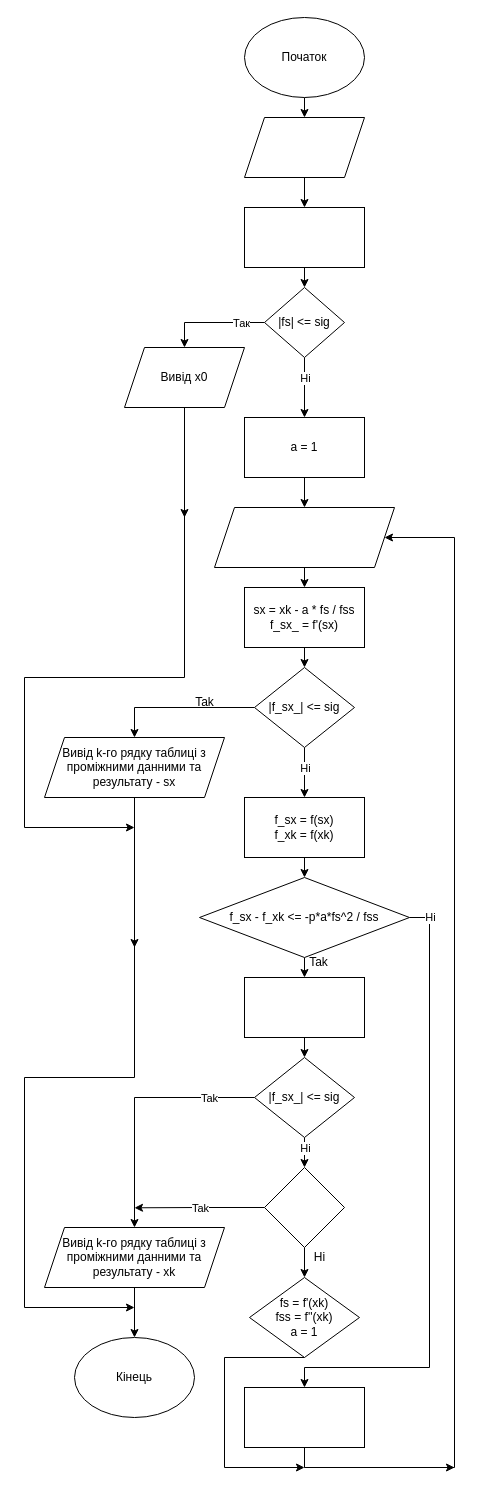
This 480x1493 diagram has some shape labels left out. The shapes that lost their labels are listed below. From the top down, each one's centre as x and y in pixels, then its label:
At [304,147]: "Ввод x0, p, sig".
At [304,237]: "k = 0 xk = x0 fs = f'(xk) fss = f''(xk)".
At [304,537]: "Вивід k-го рядку таблиці з проміжними данними".
At [304,1007]: "k = k + 1 xk = sx".
At [304,1207]: "a <= sig".
At [304,1417]: "a = a / 2".
